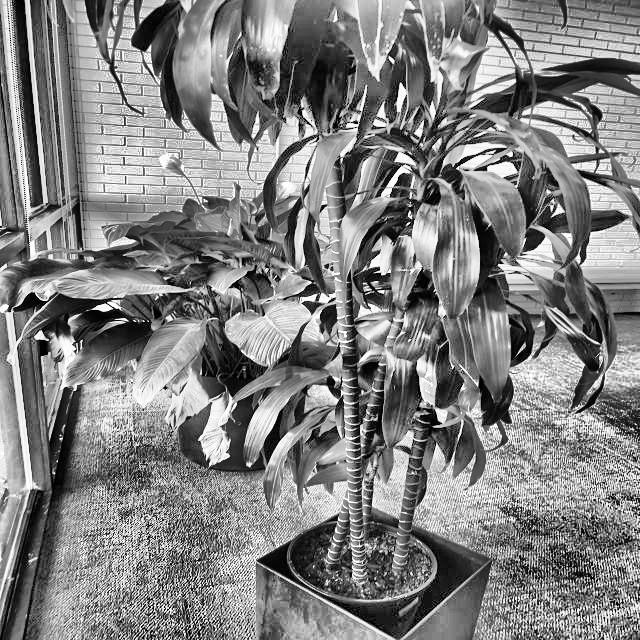plants: (92, 12, 564, 556)
